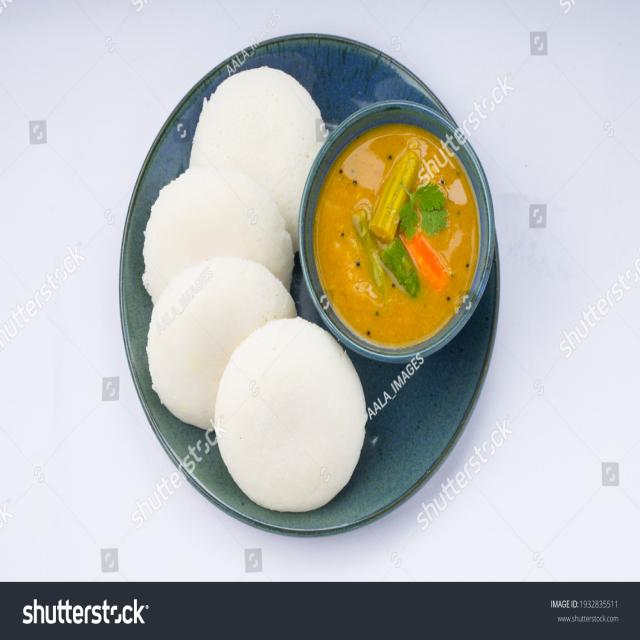IDLI: (214, 319, 366, 514), (146, 249, 303, 423), (189, 69, 328, 247), (142, 170, 296, 305)
